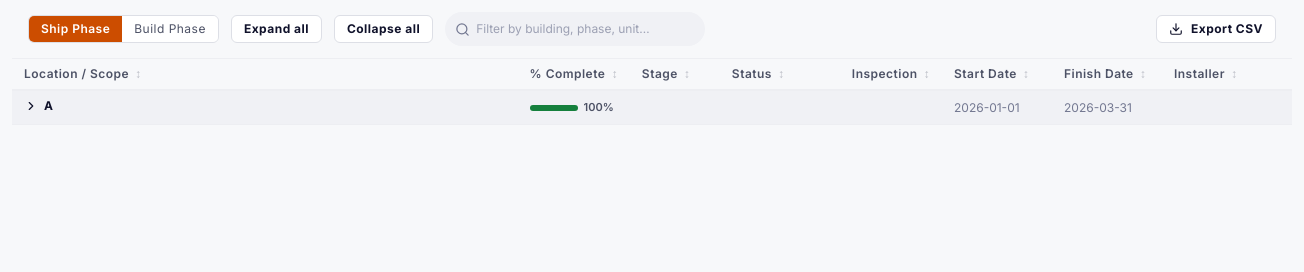
Test case: scope name display — canonical vs raw › falls back to scopeType.name when no canonical is linked
Click the button "Expand all" at (276, 29), box [231,15,322,43]
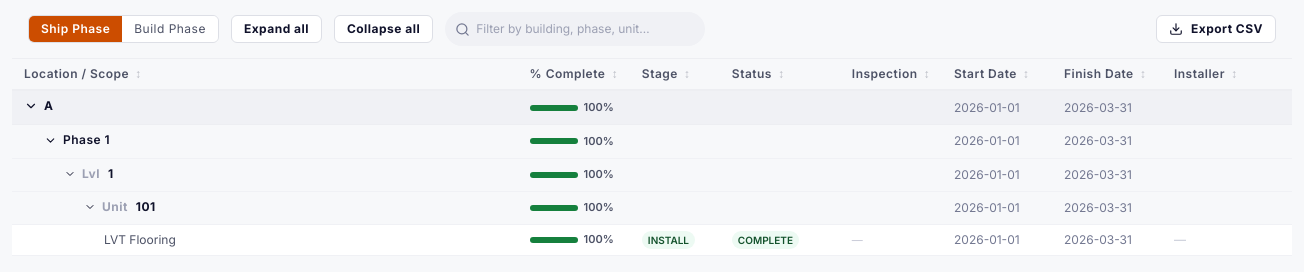
Expected: the text "LVT Flooring" is shown, [12,224,518,255]
